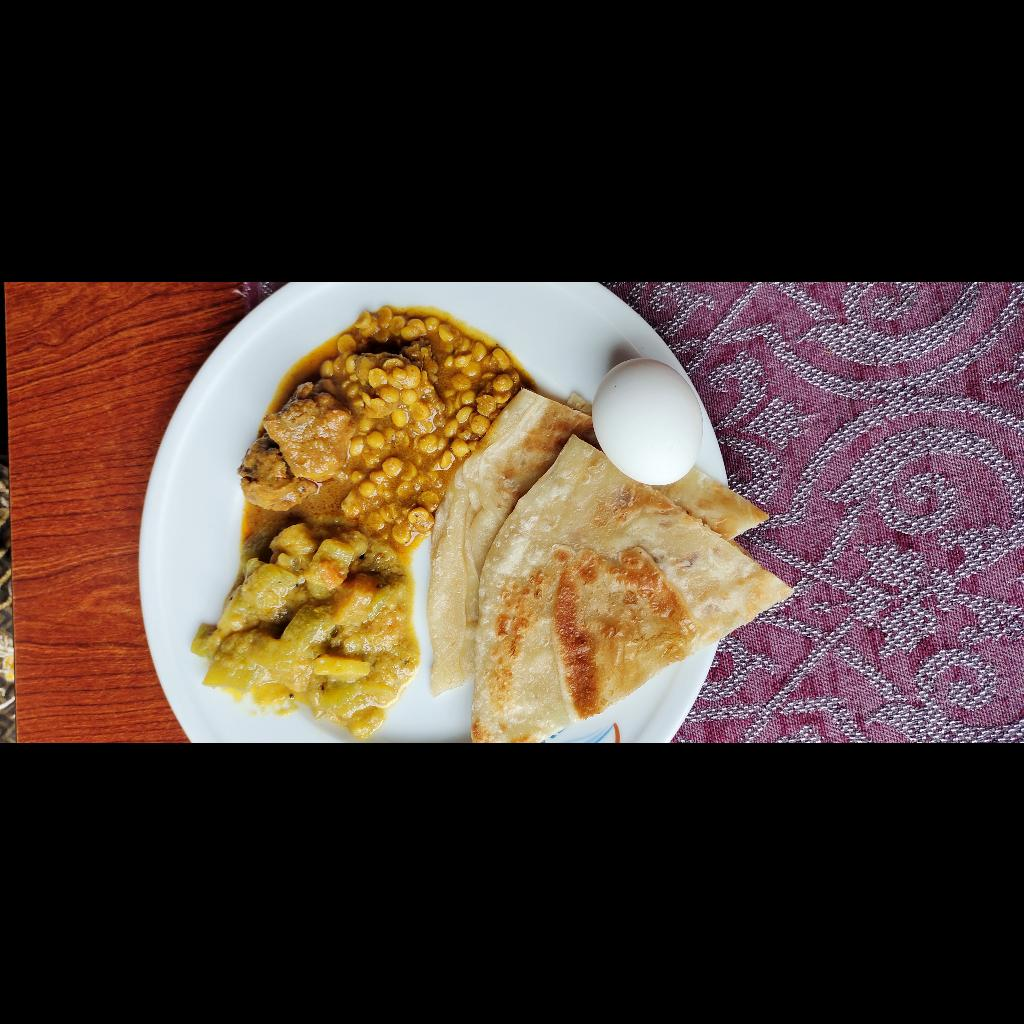chicken: (181, 520, 366, 631)
daal: (189, 579, 436, 805)
egg-boiled: (259, 870, 383, 984)
ruti: (0, 708, 356, 1024)
vegetable: (7, 467, 229, 693)
